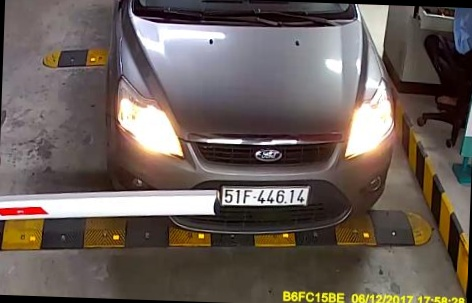plate: (217, 177, 319, 216)
